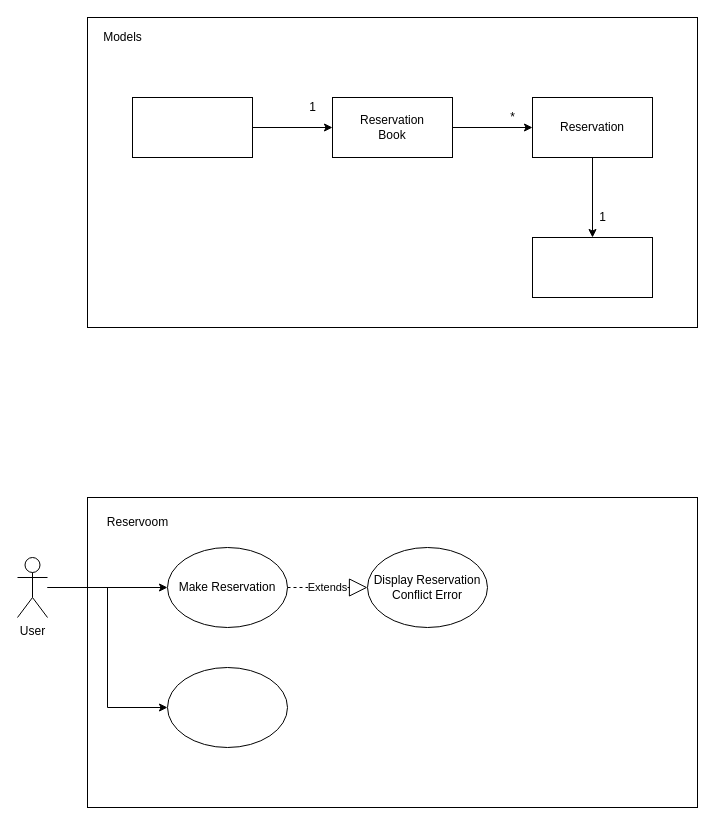
This 715x825 diagram has some shape labels left out. The centre of each missing label's shape, as x and y in pixels:
"Hotel" belongs at pixel 192 127.
"Room ID" belongs at pixel 592 267.
"View Reservations" belongs at pixel 227 707.
